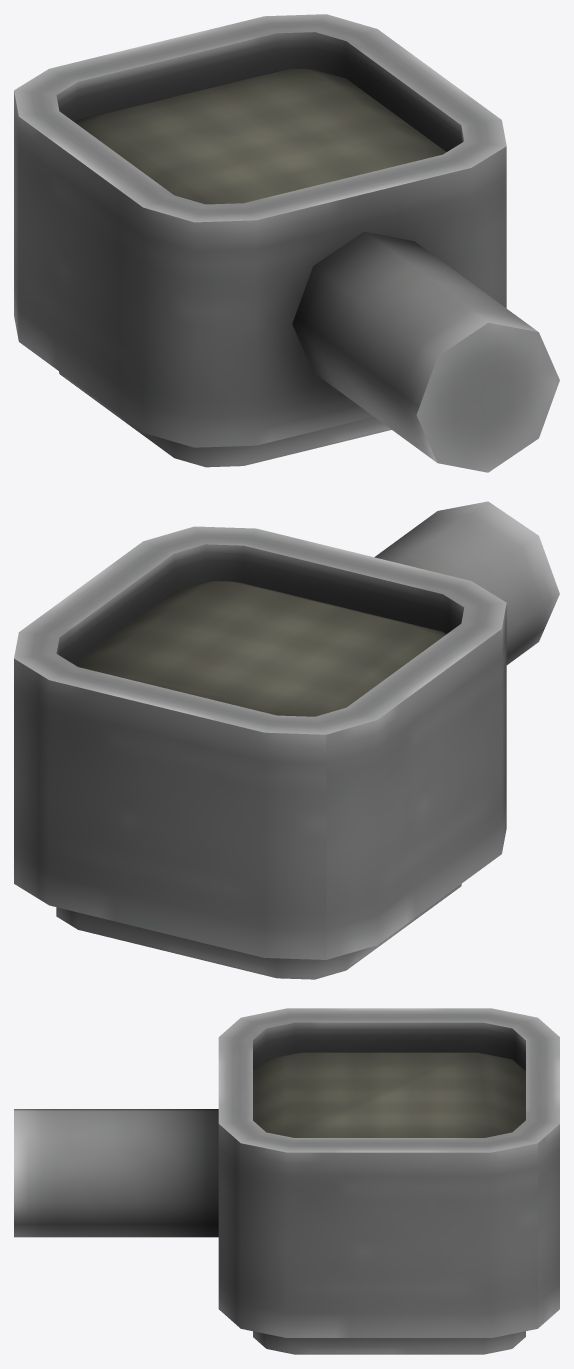
Rendered from octans_light_srf_1.obj.
3 renders of one model, top to bottom at view 1: azimuth 30°, elevation 25°; view 2: azimuth 150°, elevation 25°; view 3: azimuth 270°, elevation 25°, orthographic. The views are drawn at different scales.
Visible parts, largest first — view 1: mesh; view 2: mesh; view 3: mesh.
Part boxes in pixels (box(x1,y1,x2,y2)): mesh: box(14, 14, 559, 472); mesh: box(14, 501, 559, 979); mesh: box(14, 1008, 559, 1354).
Bounding box in the file's own units: 0.125 × 0.0875 × 0.2.
Materials: 1 (1 with a texture image).
